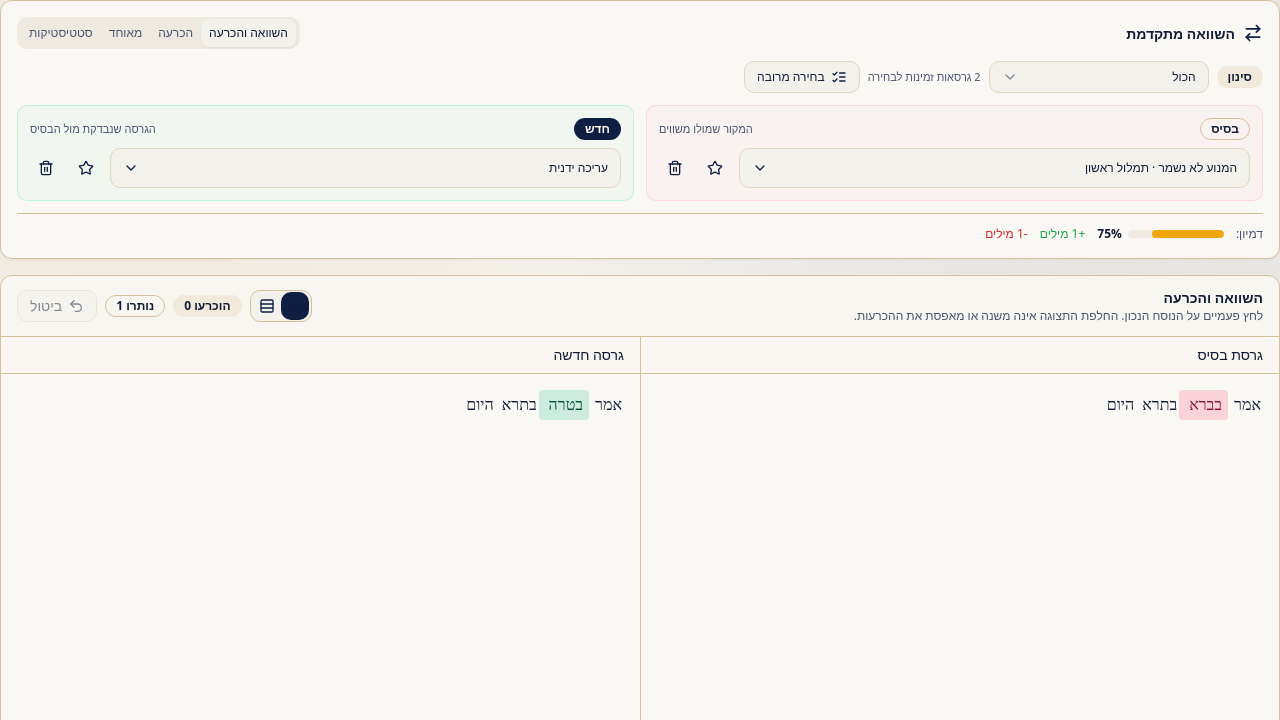
Scenario: AdvancedDiffView adjudication › accepts a correction when both versions are wrong
The width and height of the screenshot is (1280, 720).
Click the tab "הכרעה" at (176, 33), box [150,19,201,47]
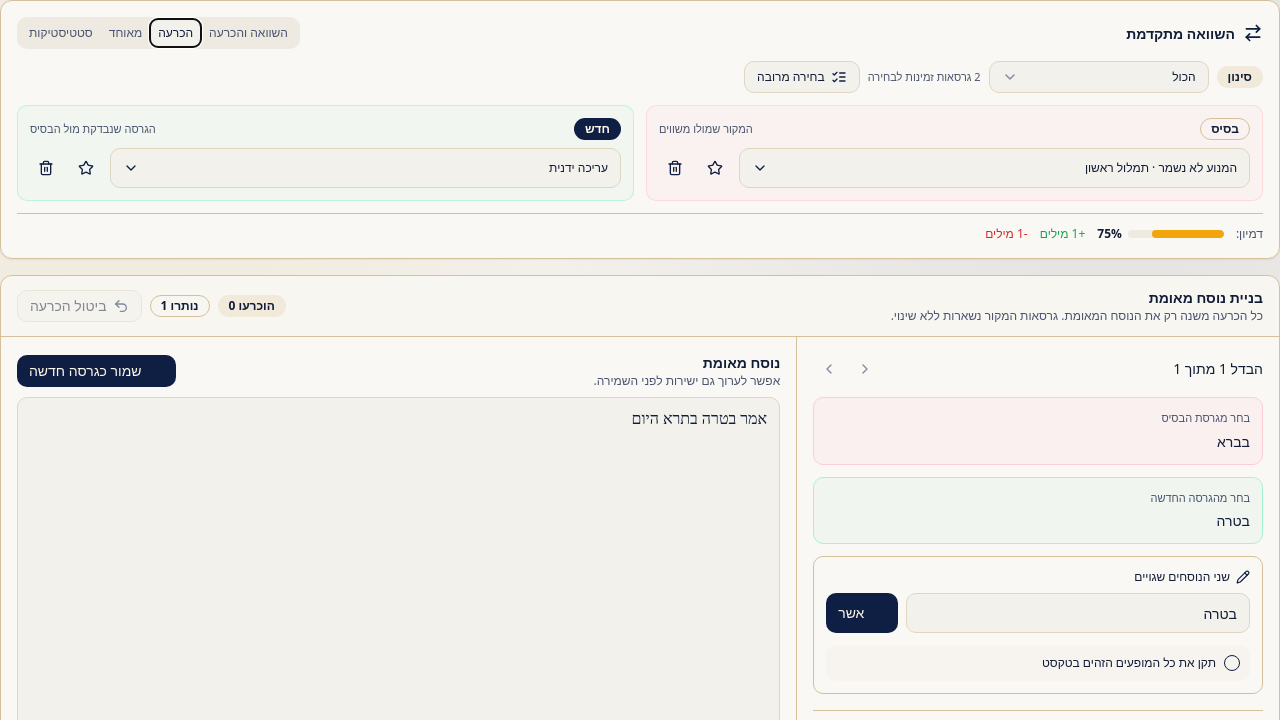
Replace the text in the field with test id "adjudication-custom-input" with "בבא" at (1078, 613), box [906,593,1250,633]
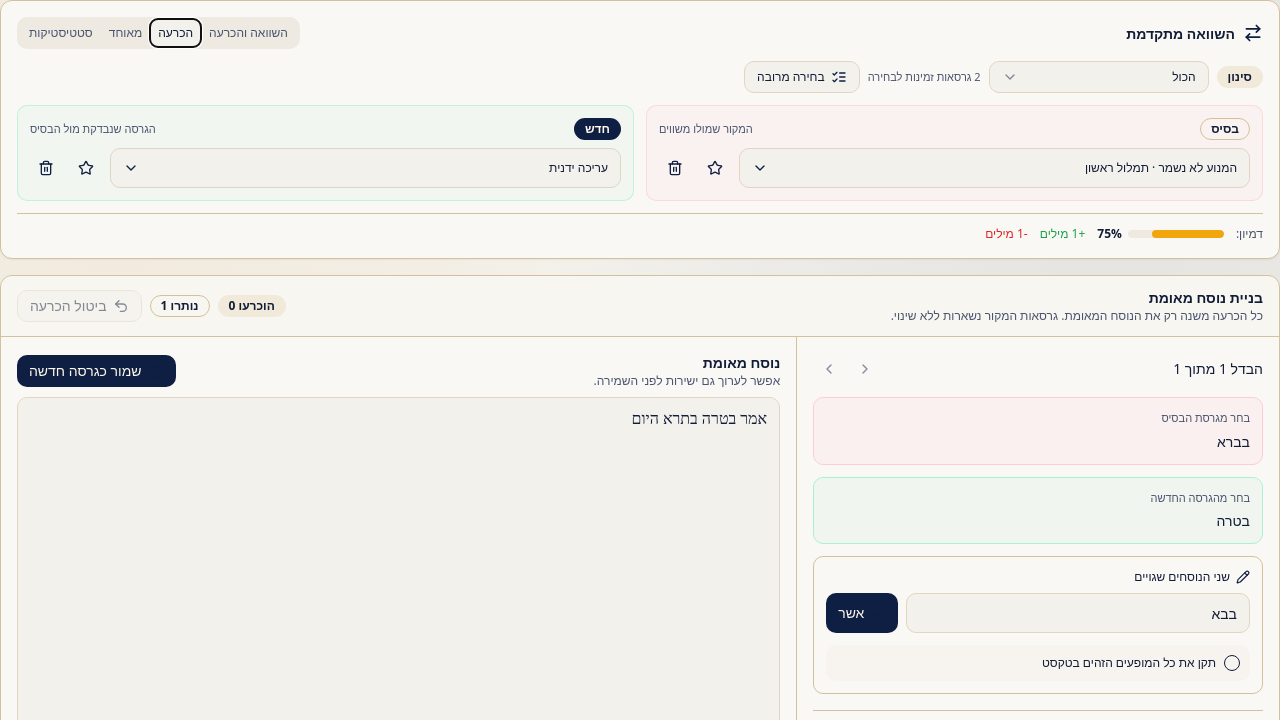
Click the button "אשר" at (862, 613), box [826,593,898,633]
(page scrolled)
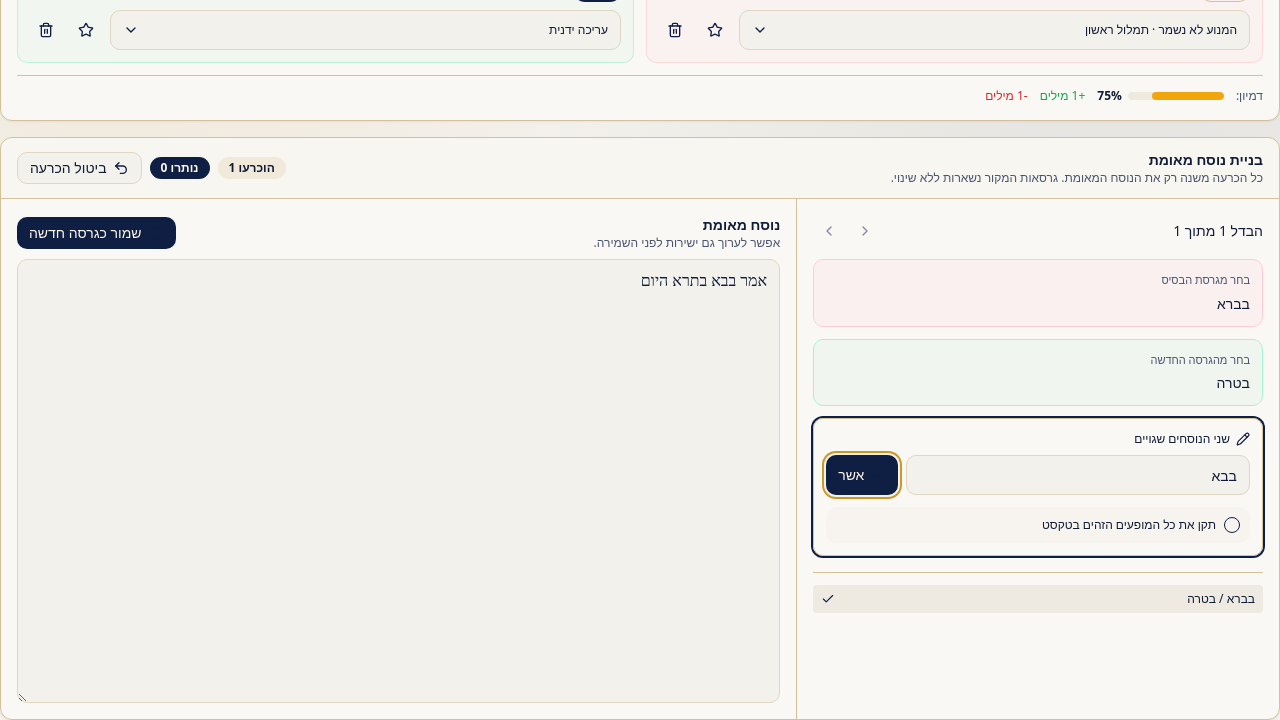
Expected: the text box with test id "verified-text" holds "אמר בבא בתרא היום", [17,259,780,703]
